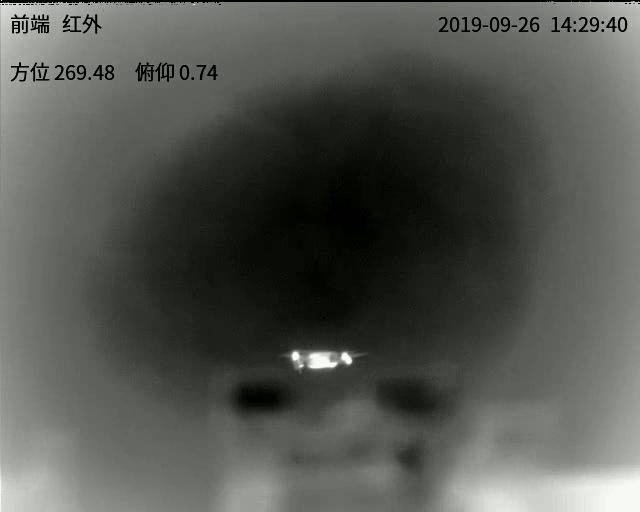DRONE: (281, 346, 369, 375)
